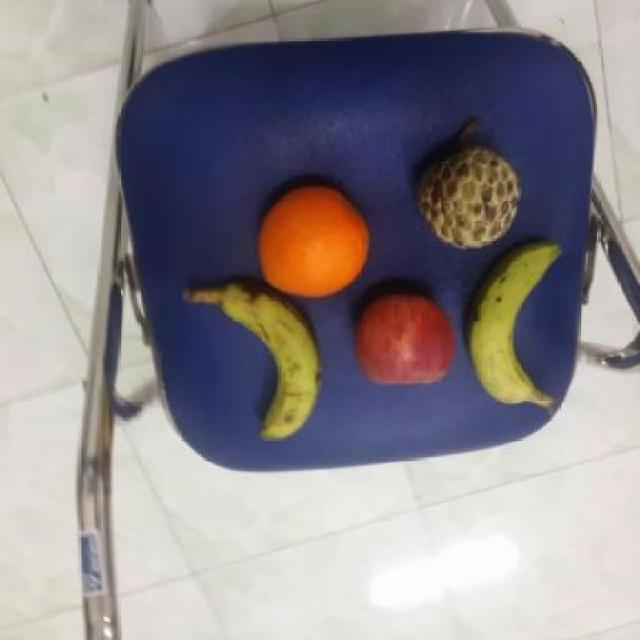apple: (352, 290, 456, 392)
banana: (208, 279, 335, 446), (463, 239, 566, 413)
oren: (253, 179, 370, 299)
sugar apple: (413, 145, 522, 251)
